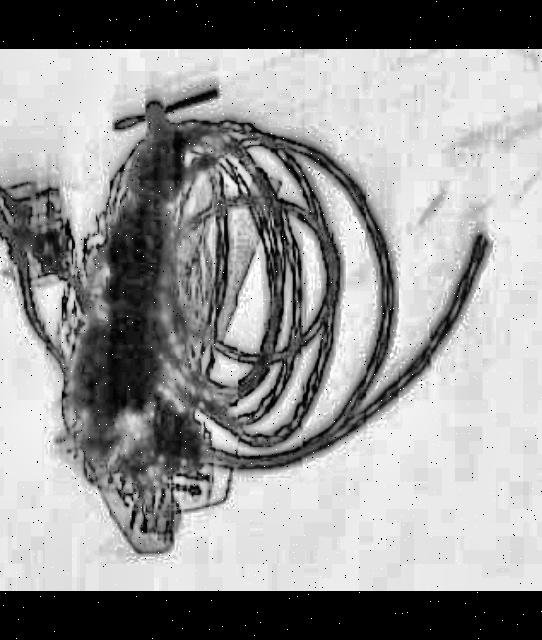Pliers: (0, 170, 125, 385)
